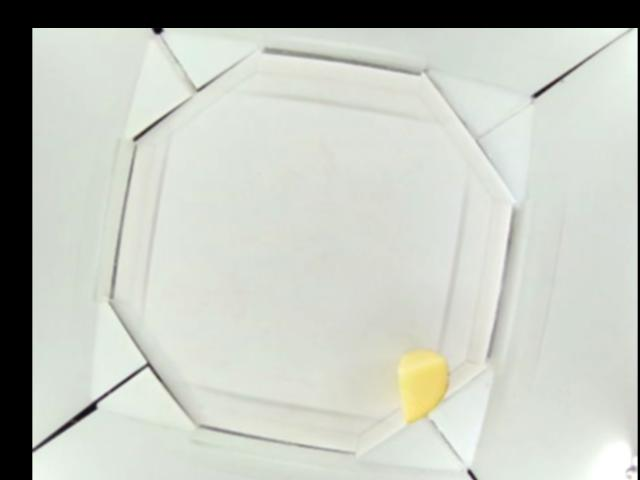Potato: (397, 348, 451, 423)
